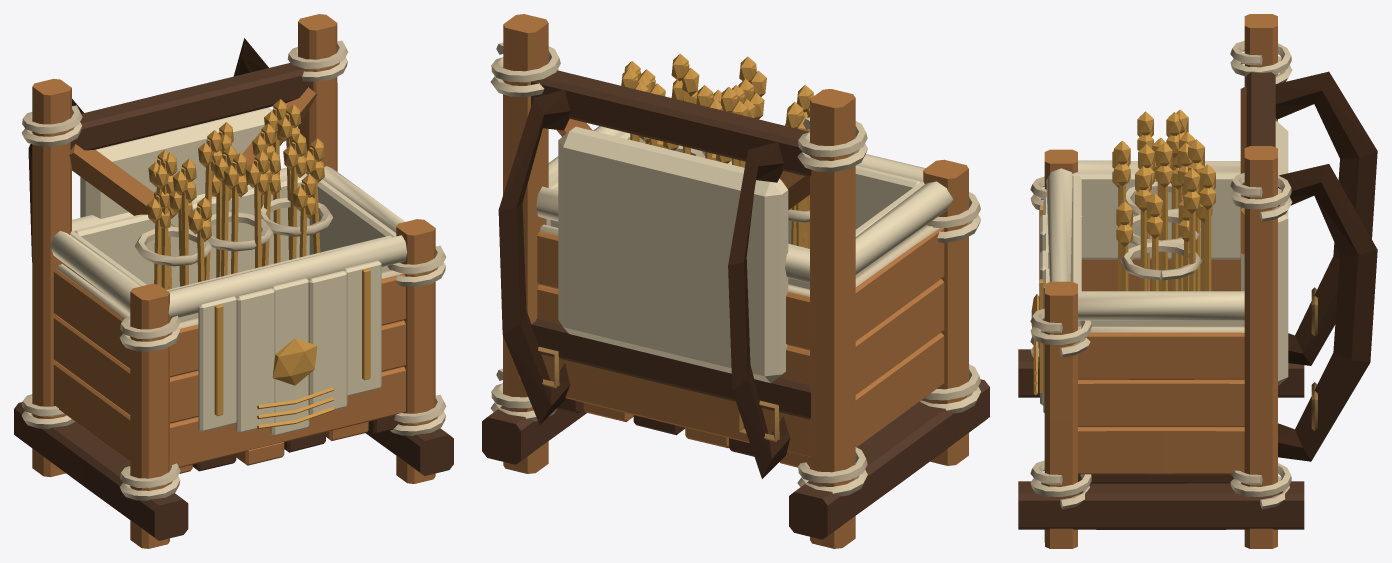
File: prop_trade_pack_wheat_a.glb
3 views of the same model, side by side, from view 1: azimuth 30°, elevation 25°; view 2: azimuth 150°, elevation 25°; view 3: azimuth 270°, elevation 25° (orthographic). The views are drawn at different scales.
Visible parts, largest first — view 1: prop_trade_pack_wheat_a_LOD0; view 2: prop_trade_pack_wheat_a_LOD0; view 3: prop_trade_pack_wheat_a_LOD0.
Part boxes in pixels (x1,y1,x2,y2): prop_trade_pack_wheat_a_LOD0: [14, 14, 453, 548]; prop_trade_pack_wheat_a_LOD0: [482, 14, 989, 548]; prop_trade_pack_wheat_a_LOD0: [1018, 14, 1377, 548].
Size of what is drawn, in the model's own units: 0.8384 by 0.96 by 0.8041.
